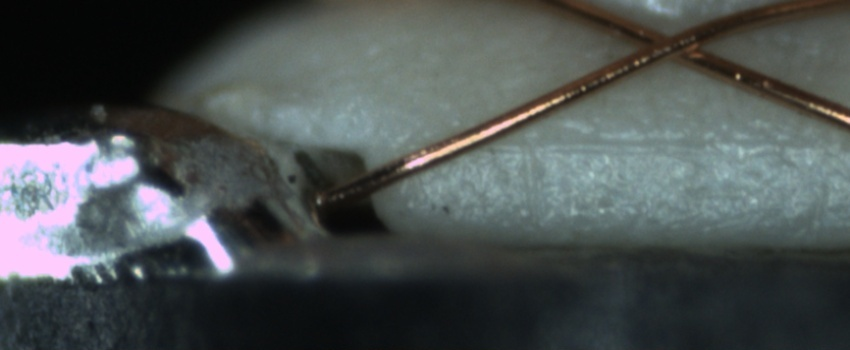CL: (622, 16, 720, 70)
DL: (447, 121, 847, 173)
